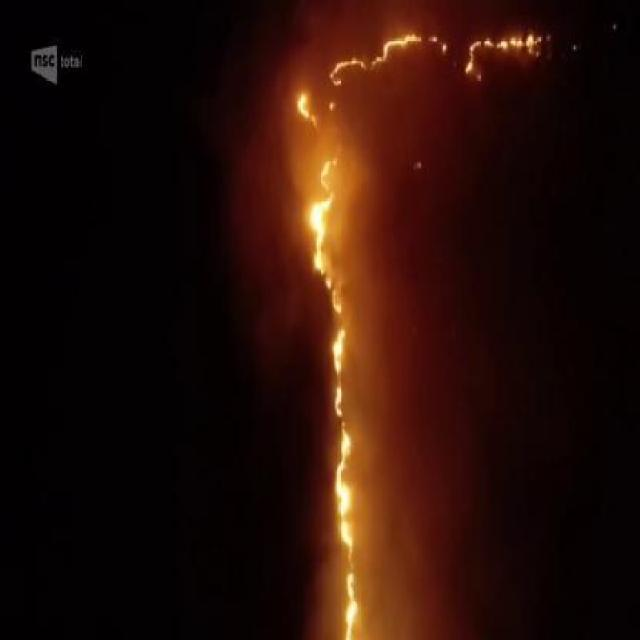Fire: (300, 163, 365, 637), (466, 36, 534, 70), (374, 35, 424, 63), (328, 53, 366, 82), (296, 92, 316, 123)
